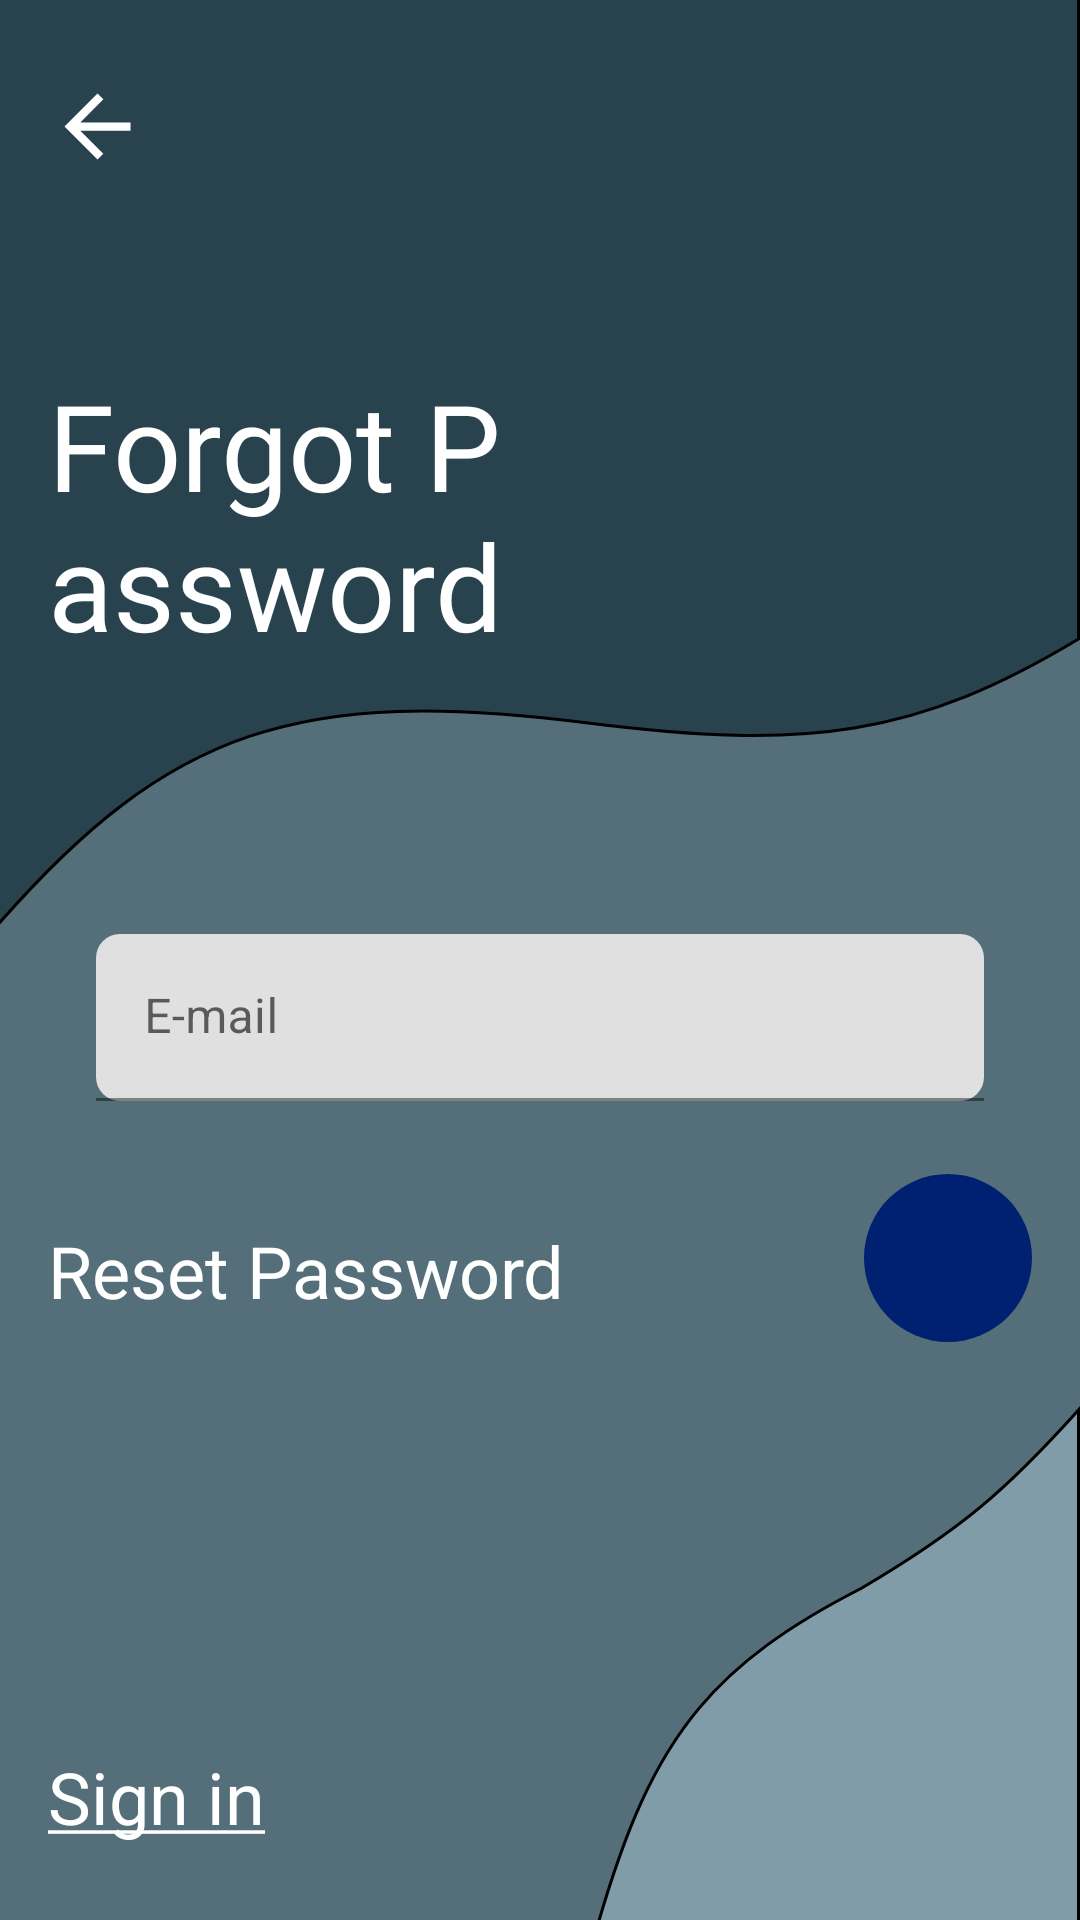

Icons on this 1080w x 1920h Android screen, each with the point to tap as (x,y):
arrow back: (97,126)
